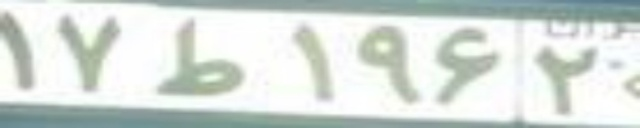0: (618, 74, 638, 99)
1: (290, 23, 334, 101), (0, 10, 38, 89)
2: (534, 45, 597, 115)
6: (431, 29, 498, 103)
7: (56, 11, 123, 93)
9: (352, 24, 417, 104)
taa: (149, 15, 243, 95)
